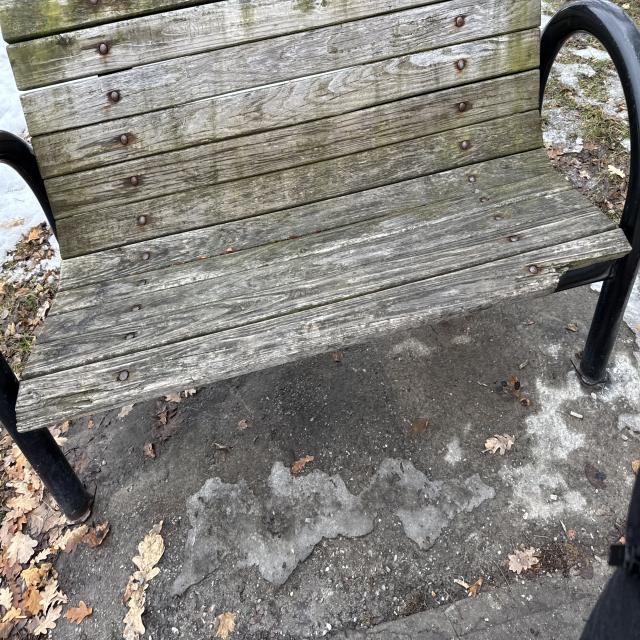Bench: (0, 0, 627, 406)
